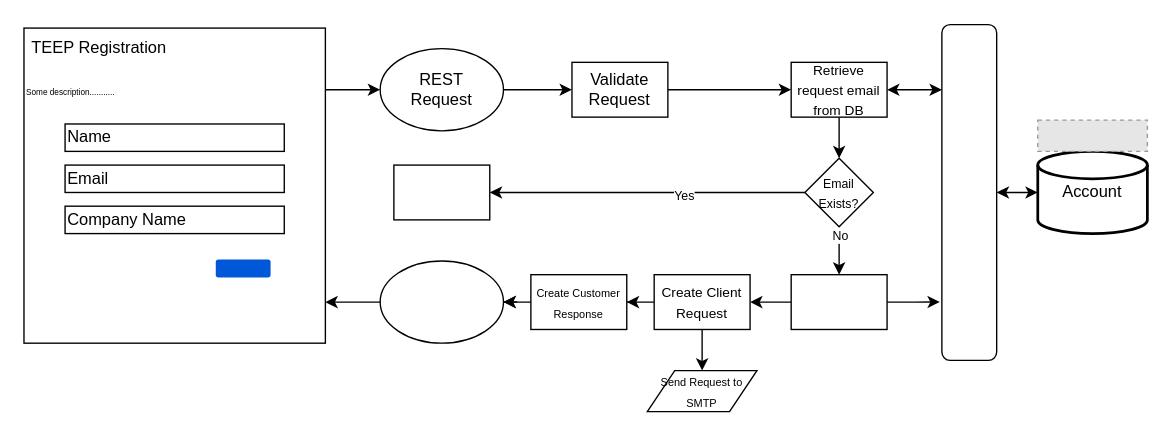
Image size: 1173x436. Some labels were removed from this diagram. Grey dashed boxes stand in for pictures. The shapes that lost their labels are listed below. From the top down, each one's box as (x1, y1, x2, y2) in pixels, then its label:
(393, 164, 490, 220): ERROR HTTP 409 Conflict
(941, 23, 997, 360): Repository
(215, 259, 270, 277): Submit
(379, 260, 503, 343): Return Response
(790, 273, 887, 329): Transform to Entity
